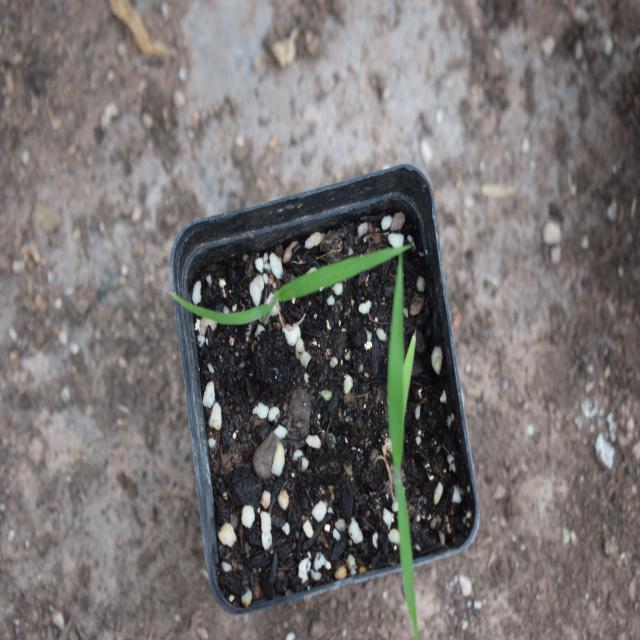crabgrass: (201, 237, 401, 334), (395, 256, 438, 613)
